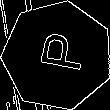P_W: (29, 32, 86, 79)
